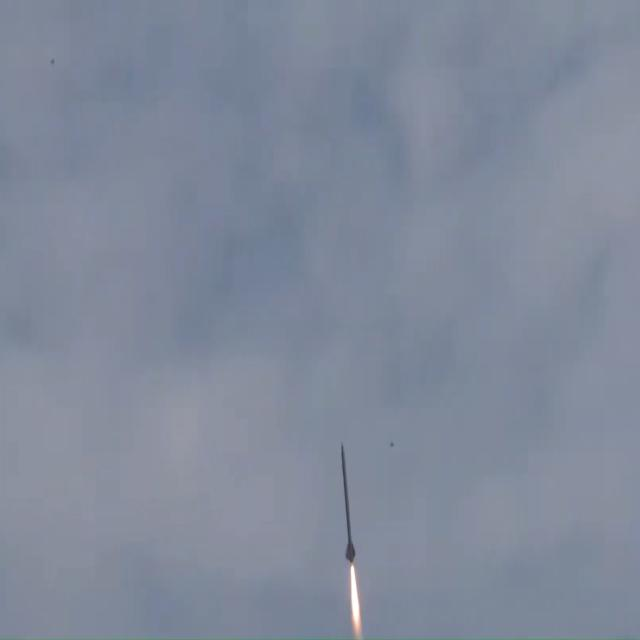Rocket: (341, 442, 355, 568)
